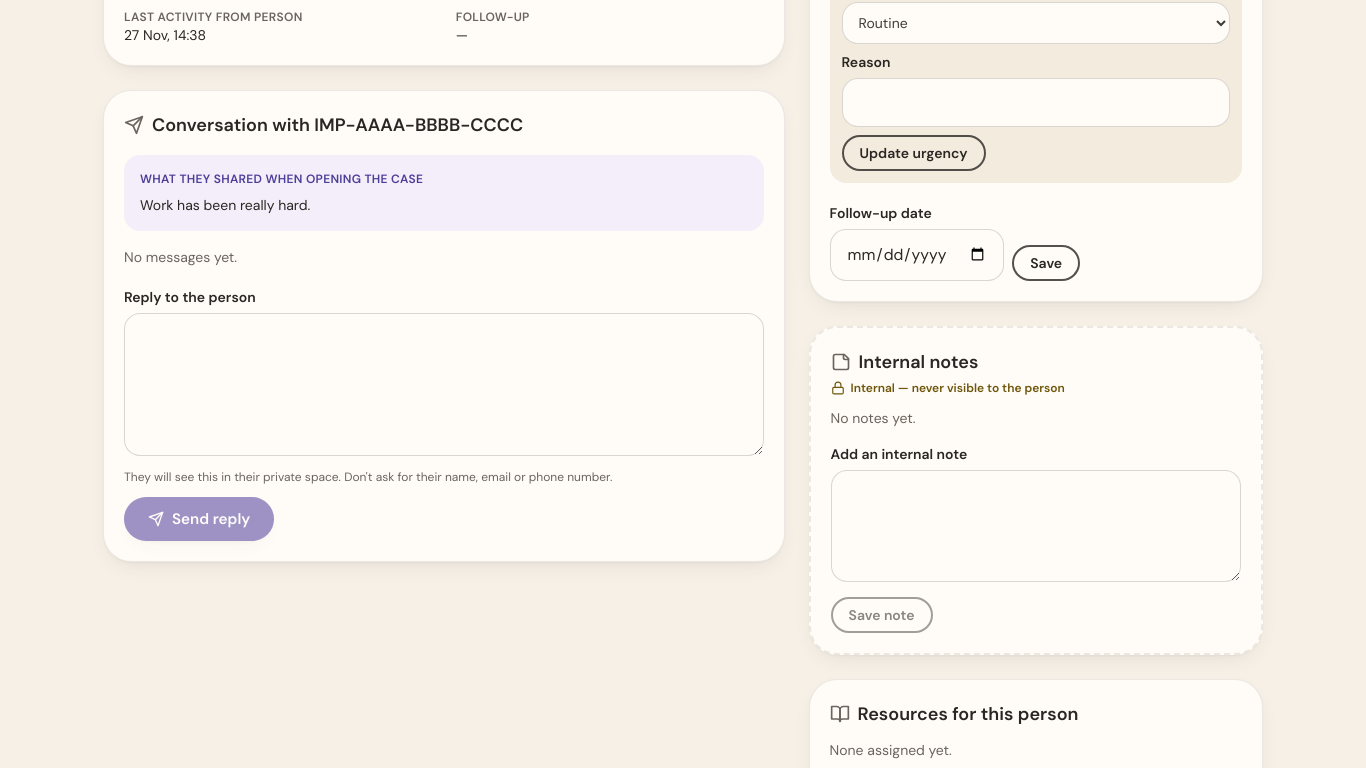
Scenario: Staff case view › reports a permission error honestly
The image size is (1366, 768).
(page scrolled)
In the text box labelled "Reply to the person": (444, 384) [124,312,764,456], type "Hello"
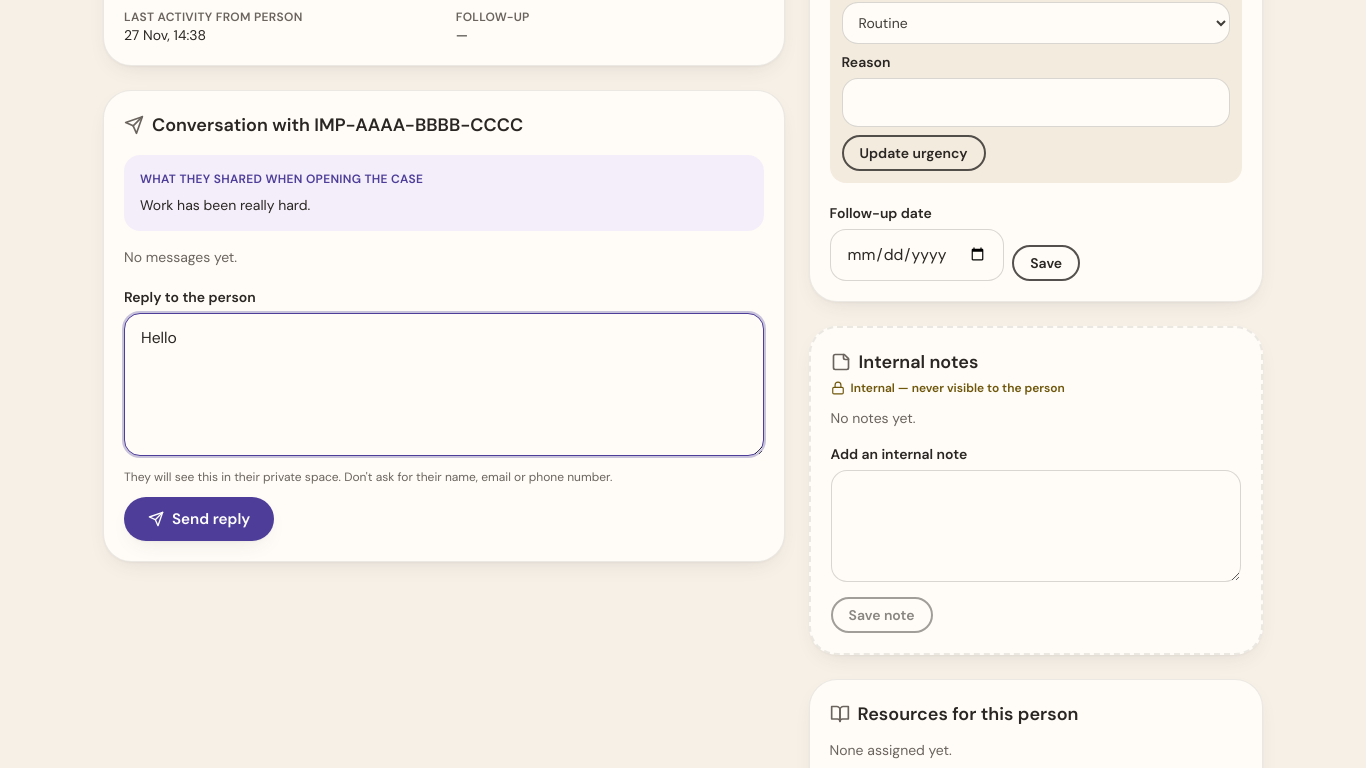
Click the button "Send reply": (199, 519) [124,497,274,541]
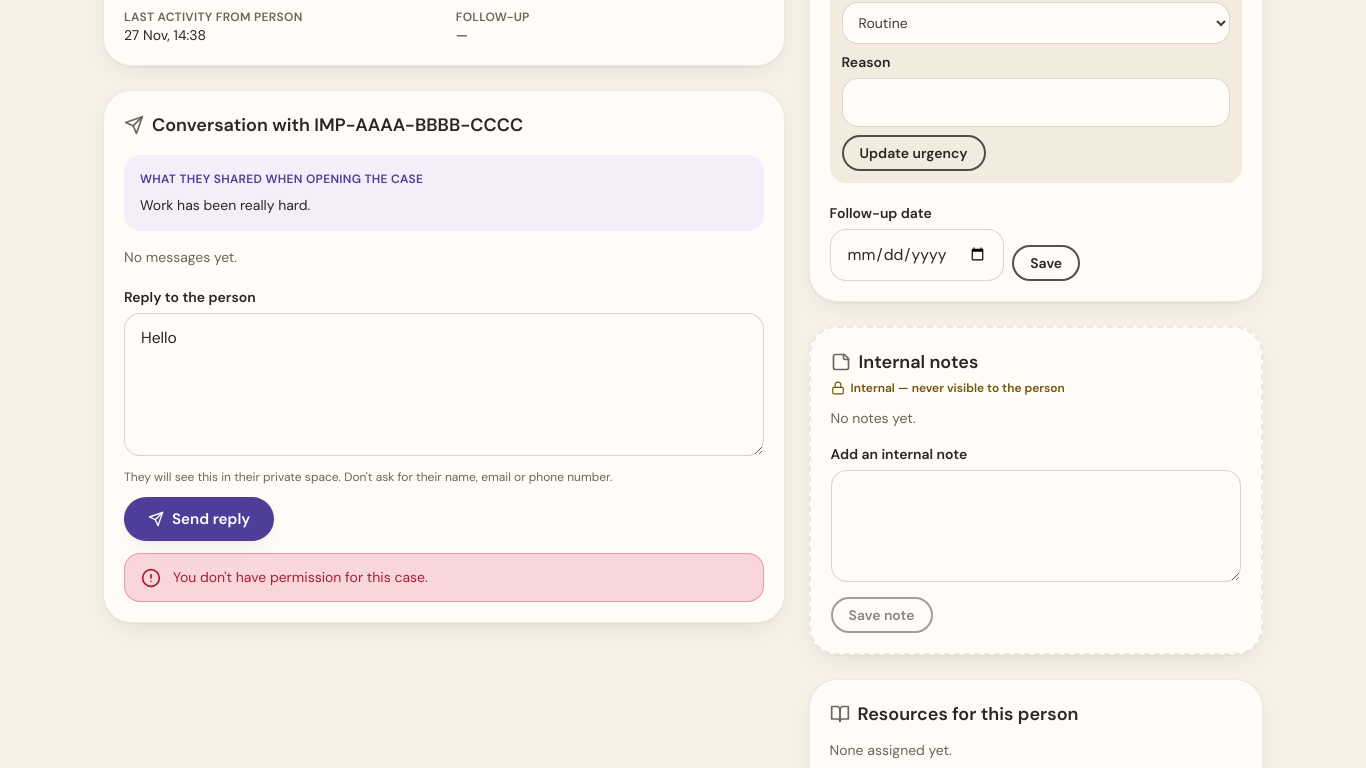
Expected: the text "You don't have permission for this case." is shown, [173,566,428,589]
